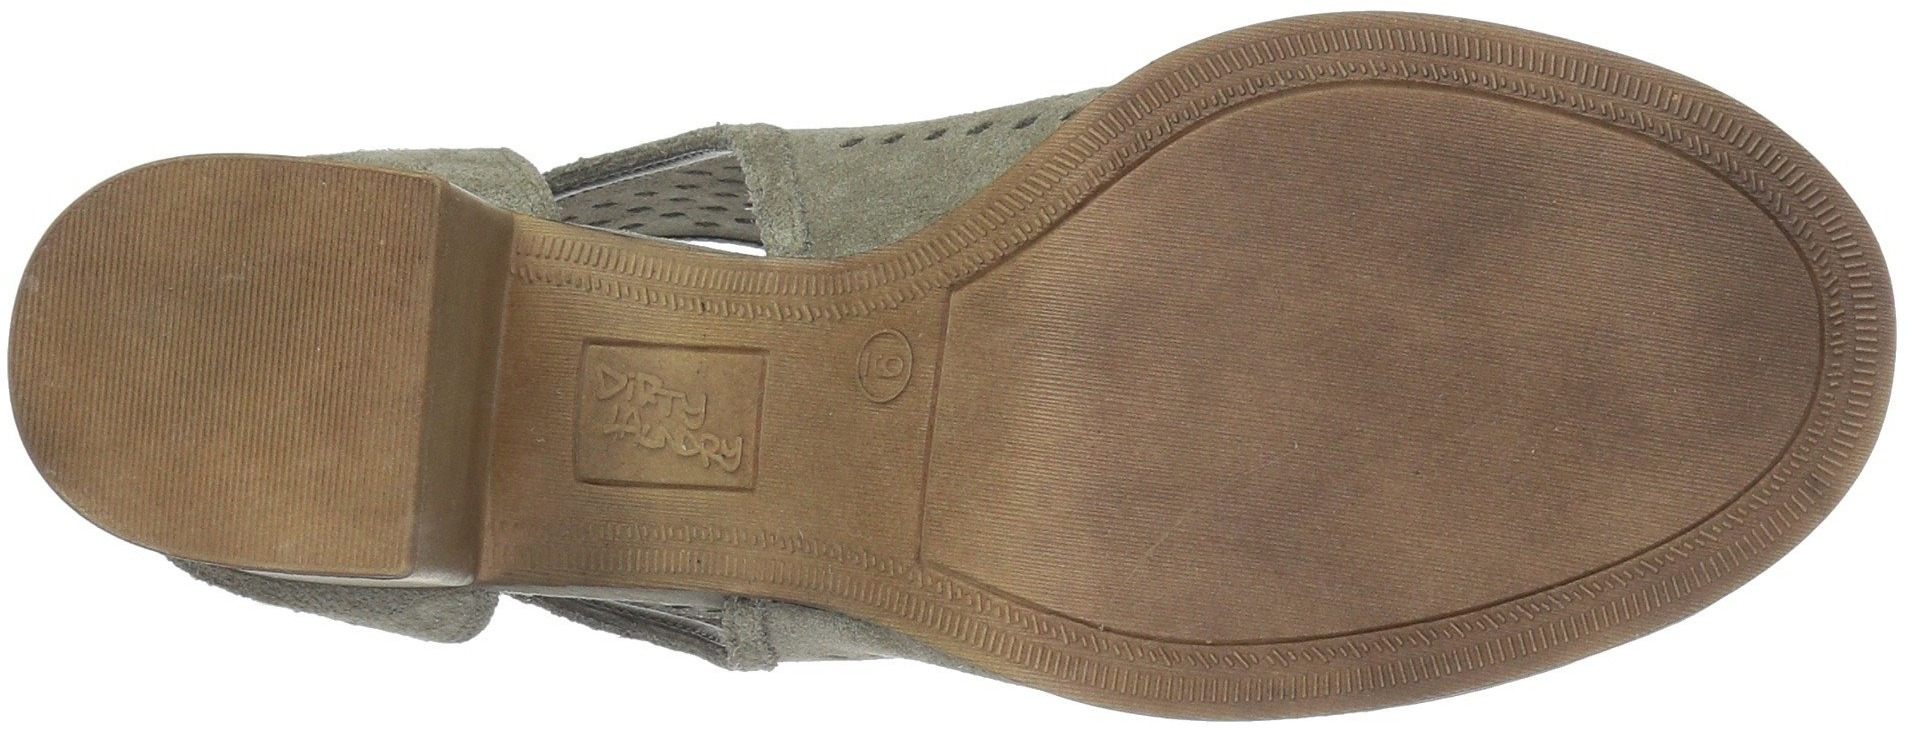other: (1262, 228, 1616, 557), (934, 297, 1257, 612), (79, 206, 401, 516), (1617, 262, 1795, 433), (1123, 172, 1257, 293), (1319, 96, 1452, 211)
